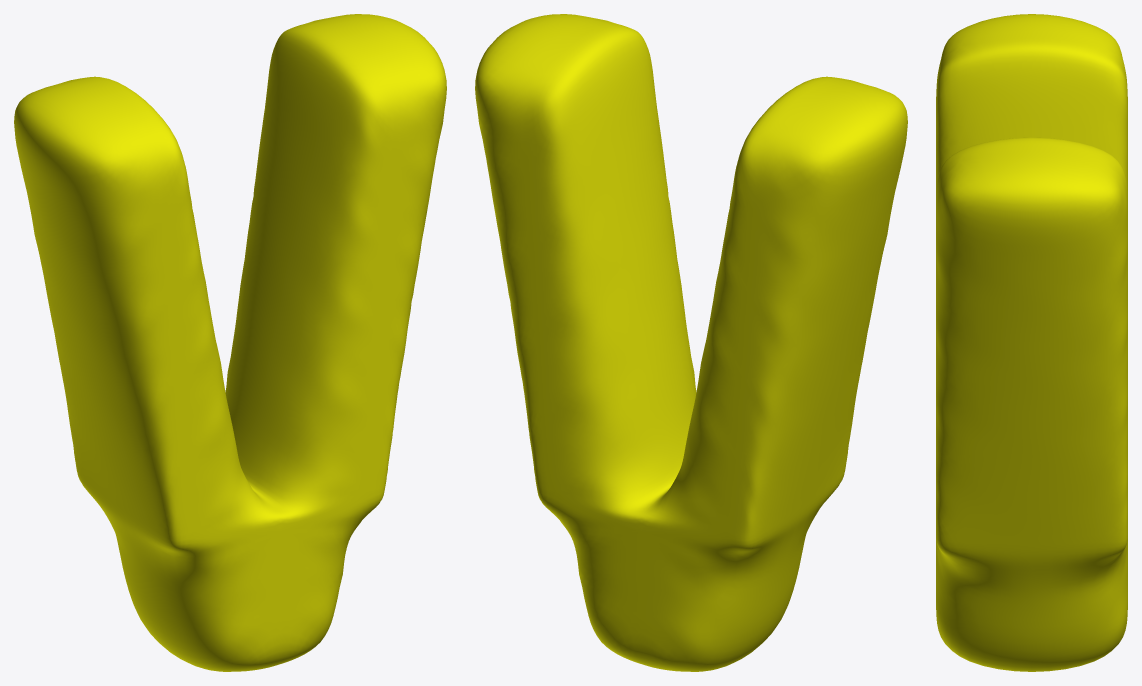
3 renders of one model, left to right at view 1: azimuth 30°, elevation 25°; view 2: azimuth 150°, elevation 25°; view 3: azimuth 270°, elevation 25°, orthographic. The views are drawn at different scales.
Visible parts, largest first — view 1: num_7; view 2: num_7; view 3: num_7.
Boxes of the visible parts, x1=… form: num_7: x1=14, y1=14, x2=446, y2=671; num_7: x1=475, y1=14, x2=907, y2=671; num_7: x1=936, y1=14, x2=1127, y2=671.
Size of the model in its own units: 4.5 by 6.47 by 2.
